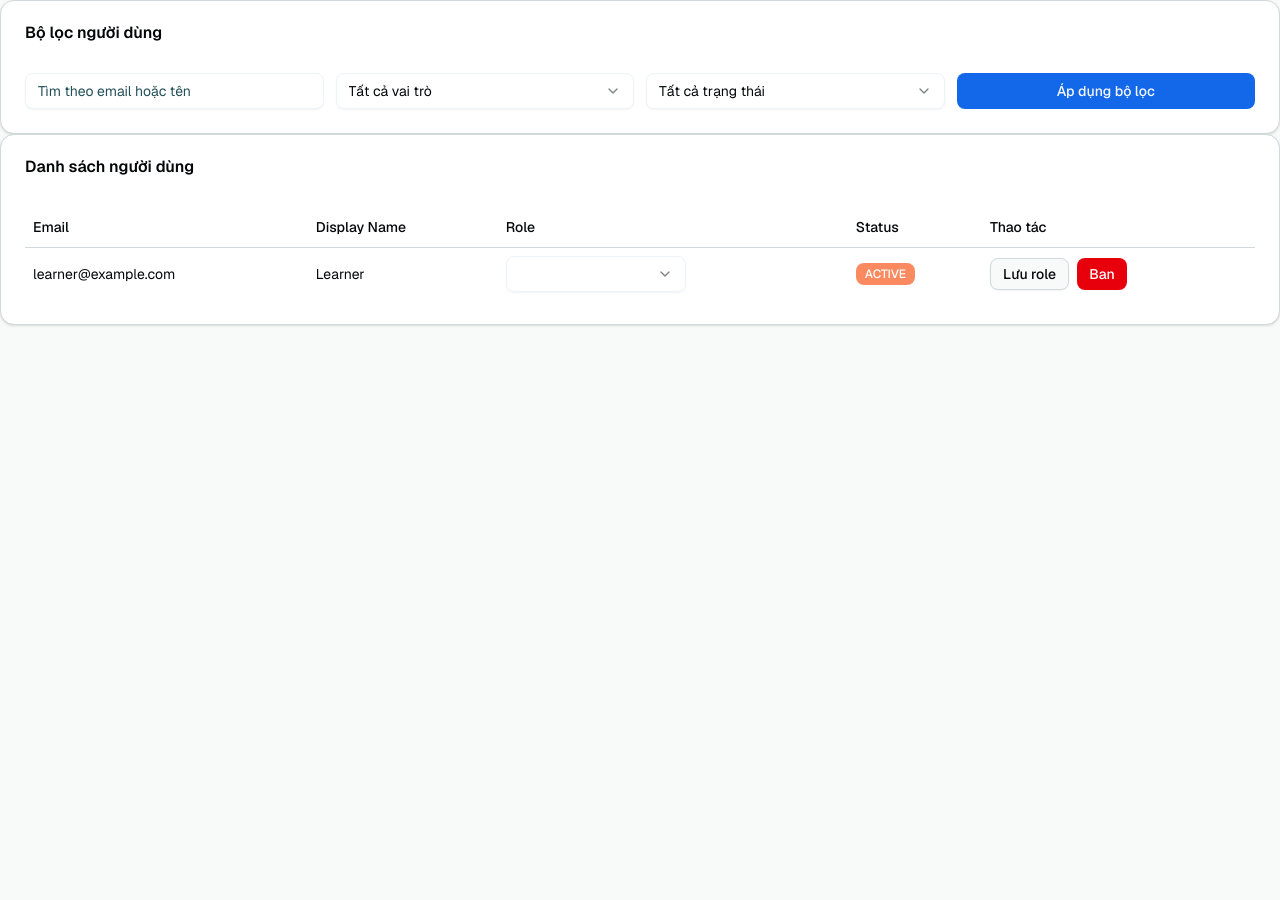
Scenario: UsersManagementPanel › opens ban confirmation dialog and calls onBanUser only after confirm
Later steps or results of the test are not shown.
Click the button "Ban". click: [1102, 274]
box: [1077,258,1127,290]
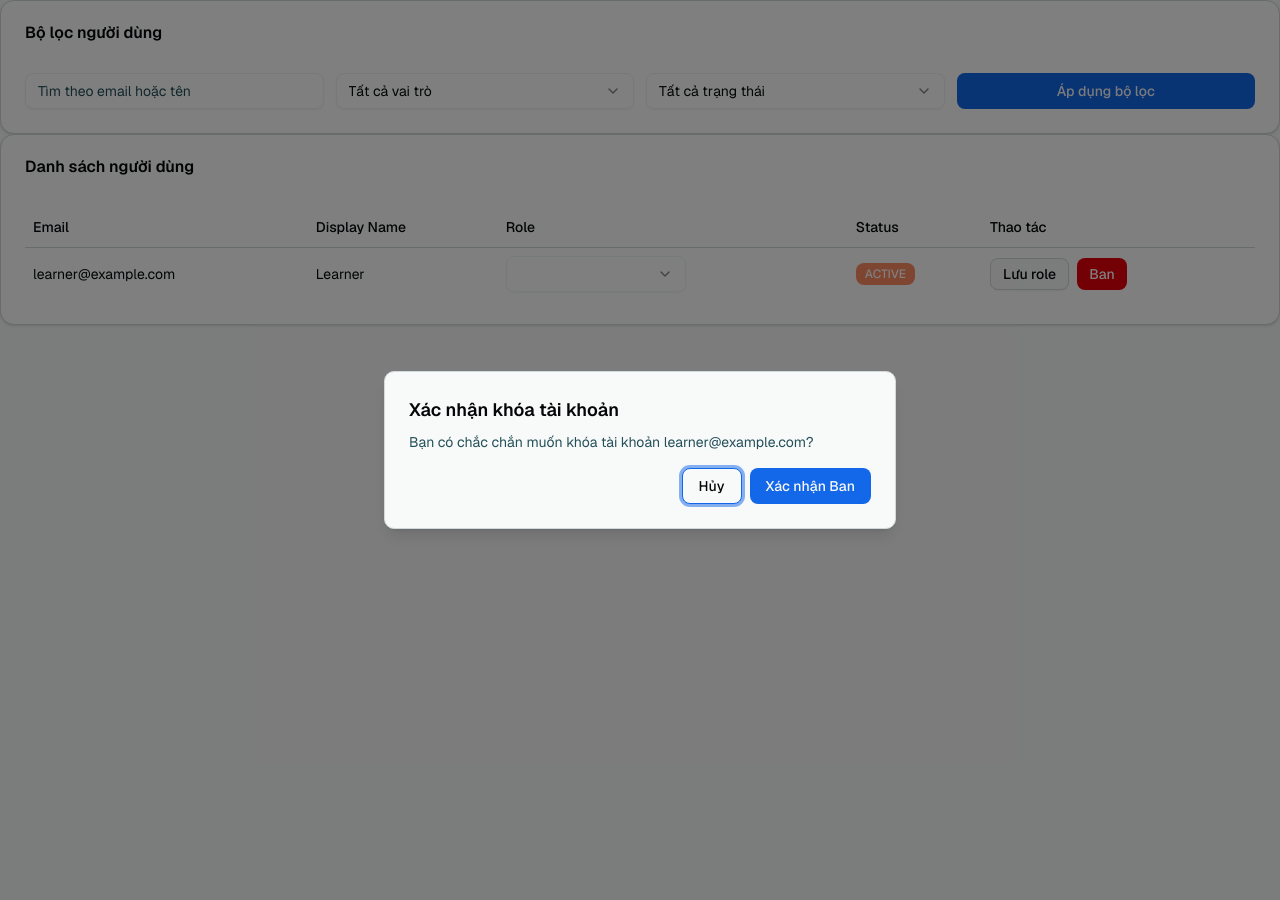
Expected: the heading "Xác nhận khóa tài khoản" is shown, [409,398,619,421]
